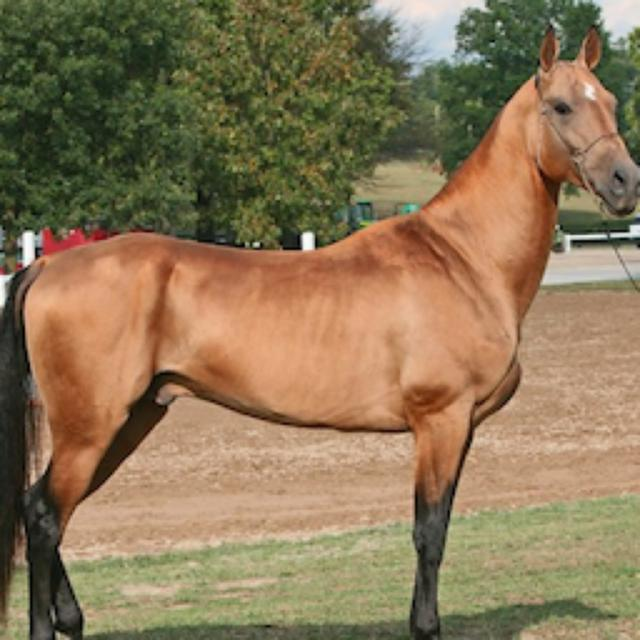Horse: (2, 20, 640, 638)
